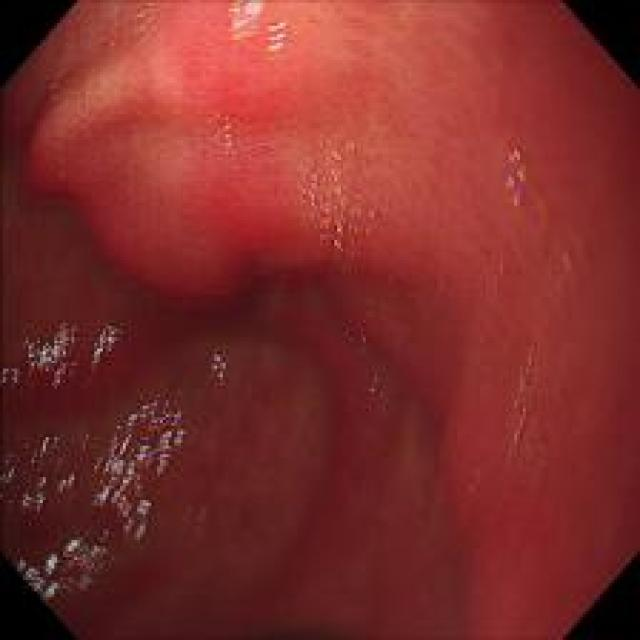blur: (4, 2, 634, 635)
bubbles: (288, 131, 376, 269), (514, 344, 554, 490), (359, 369, 398, 411), (210, 114, 239, 152), (354, 325, 379, 356)
color misalignment: (91, 395, 185, 546), (2, 428, 99, 519), (2, 322, 122, 390), (10, 538, 110, 604), (499, 142, 532, 216), (208, 351, 232, 388)
specularity: (229, 2, 286, 52)
